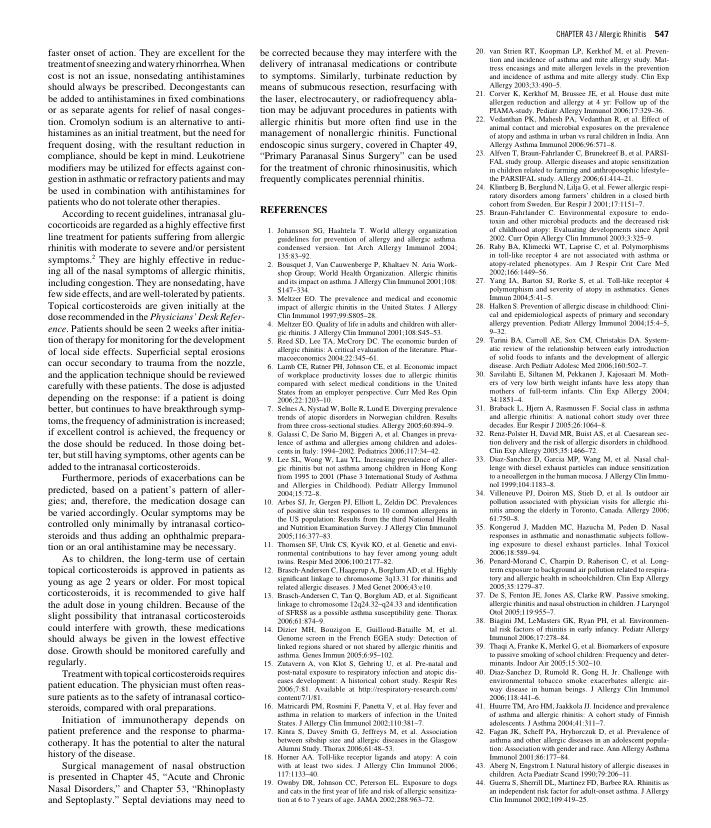header: (555, 29, 647, 40)
list: (475, 45, 670, 804), (261, 225, 460, 806)
section-heading: (258, 204, 328, 215)
text: (46, 47, 247, 808), (258, 48, 459, 187)
